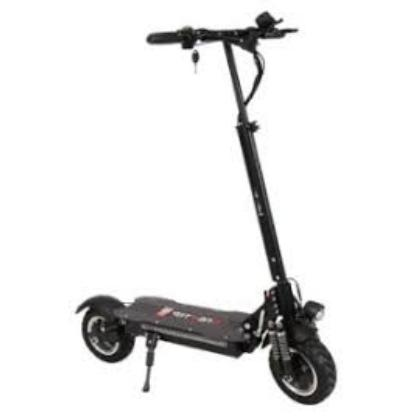bike: (74, 7, 338, 408), (75, 283, 337, 406)
